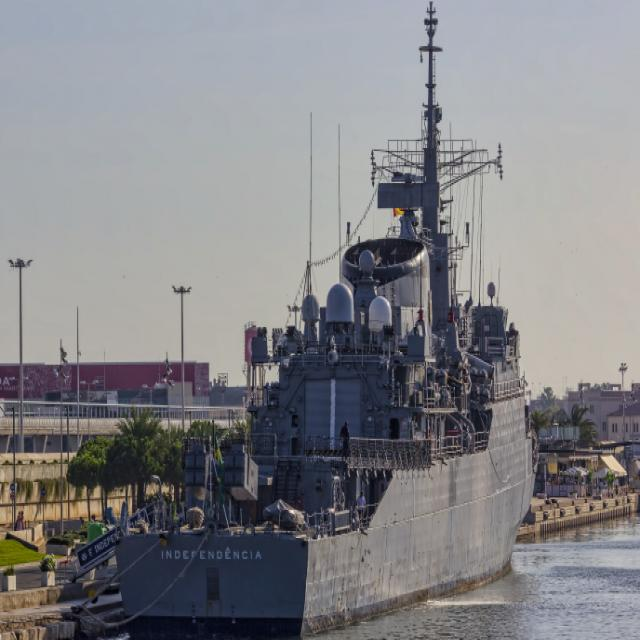Fragata: (104, 1, 548, 640)
